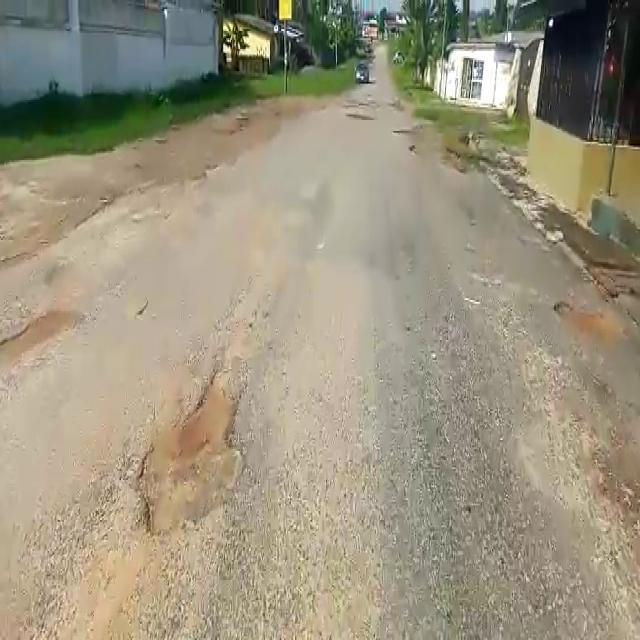pothole: (128, 365, 254, 544), (0, 300, 85, 390), (551, 302, 623, 349)
